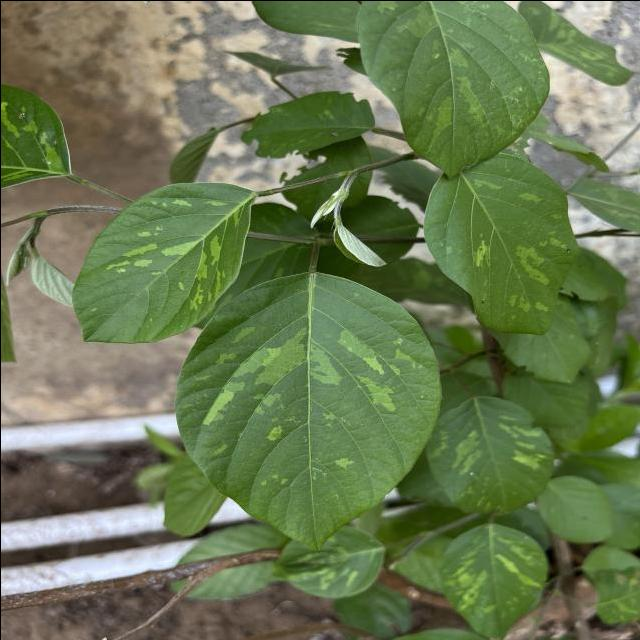Desmodium gangeticum: (170, 268, 444, 554), (351, 0, 552, 180), (64, 178, 260, 345)
